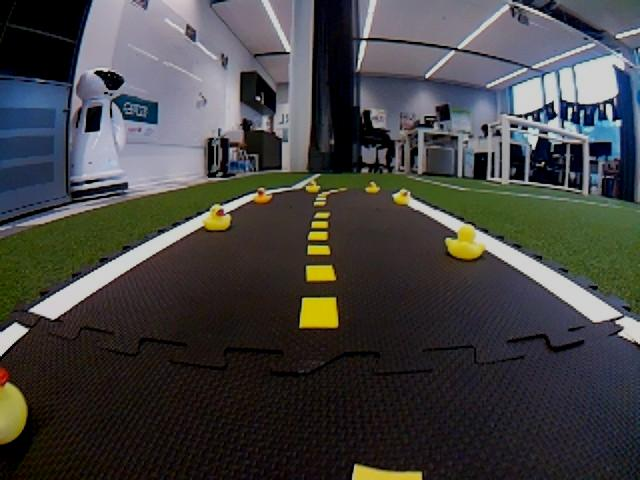Duckies: (444, 226, 483, 260), (203, 201, 232, 232), (251, 186, 271, 206), (305, 179, 320, 194), (393, 188, 407, 204), (364, 181, 379, 195)
